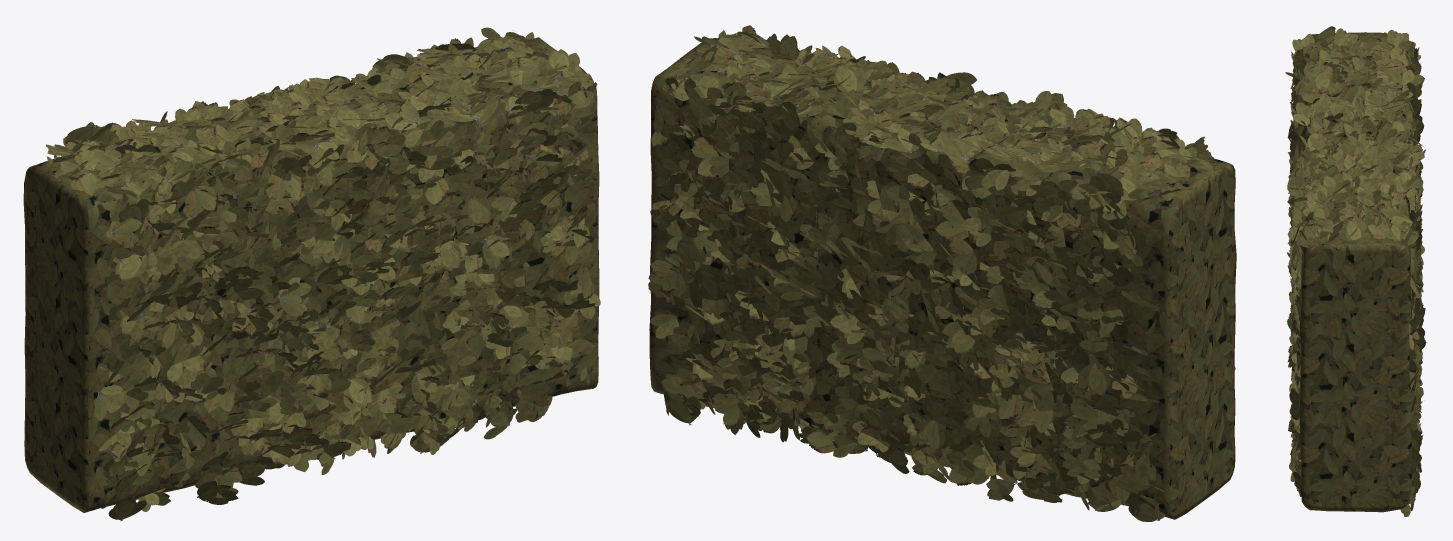
File: seto_fotinia_jardin.glb
3 views of the same model, side by side, from view 1: azimuth 30°, elevation 25°; view 2: azimuth 150°, elevation 25°; view 3: azimuth 270°, elevation 25° (orthographic). The views are drawn at different scales.
Parts seen in each view (by area): view 1: seto_fotinia_jardin; view 2: seto_fotinia_jardin; view 3: seto_fotinia_jardin.
Boxes of the visible parts, x1=… form: seto_fotinia_jardin: x1=23, y1=27, x2=600, y2=520; seto_fotinia_jardin: x1=648, y1=25, x2=1236, y2=521; seto_fotinia_jardin: x1=1285, y1=26, x2=1426, y2=516.
Size of the model in its own units: 2 by 1.4 by 0.65.
Materials: 2 (2 with a texture image).
